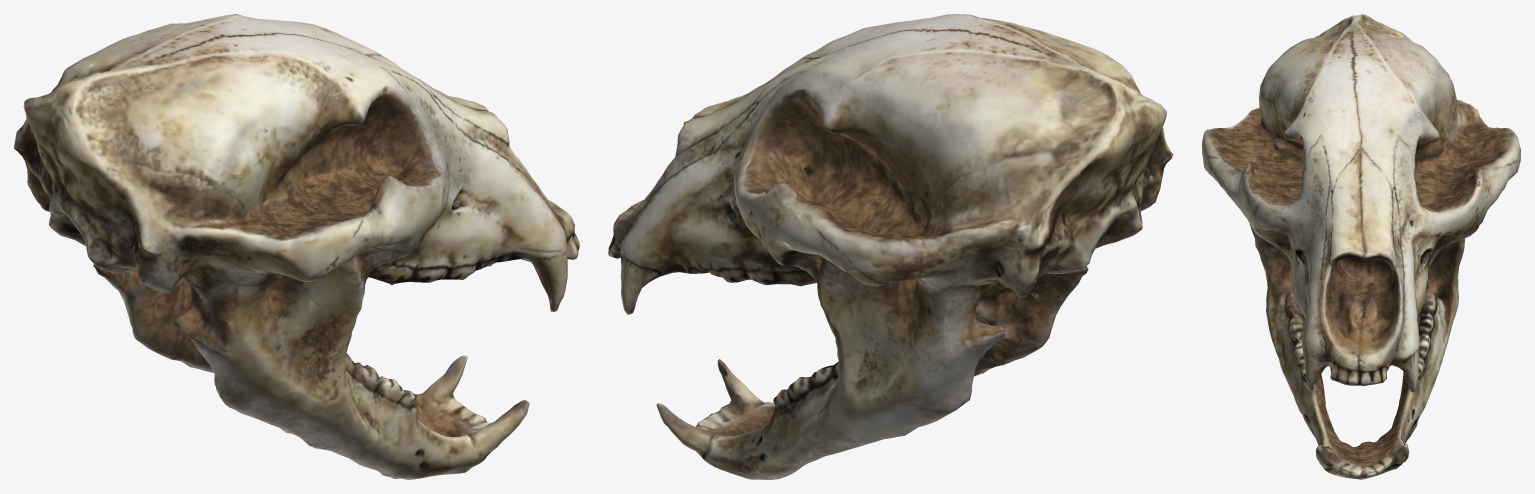
The model's file is arctotherium3D.glb.
3 views of the same model, side by side, from view 1: azimuth 30°, elevation 25°; view 2: azimuth 150°, elevation 25°; view 3: azimuth 270°, elevation 25° (orthographic). The views are drawn at different scales.
Visible parts, largest first — view 1: Object_2; view 2: Object_2; view 3: Object_2.
Boxes of the visible parts, left/top/right/bottom form: Object_2: left=14, top=14, right=579, bottom=479; Object_2: left=608, top=14, right=1173, bottom=479; Object_2: left=1202, top=14, right=1520, bottom=479.
Bounding box in the file's own units: 8.26 × 7.29 × 6.11.
Materials: 1 (1 with a texture image).
